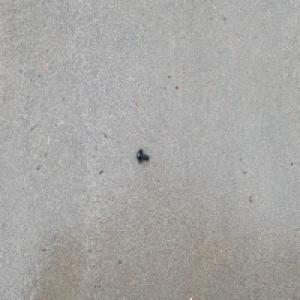BoltWasher: (136, 148, 149, 164)
